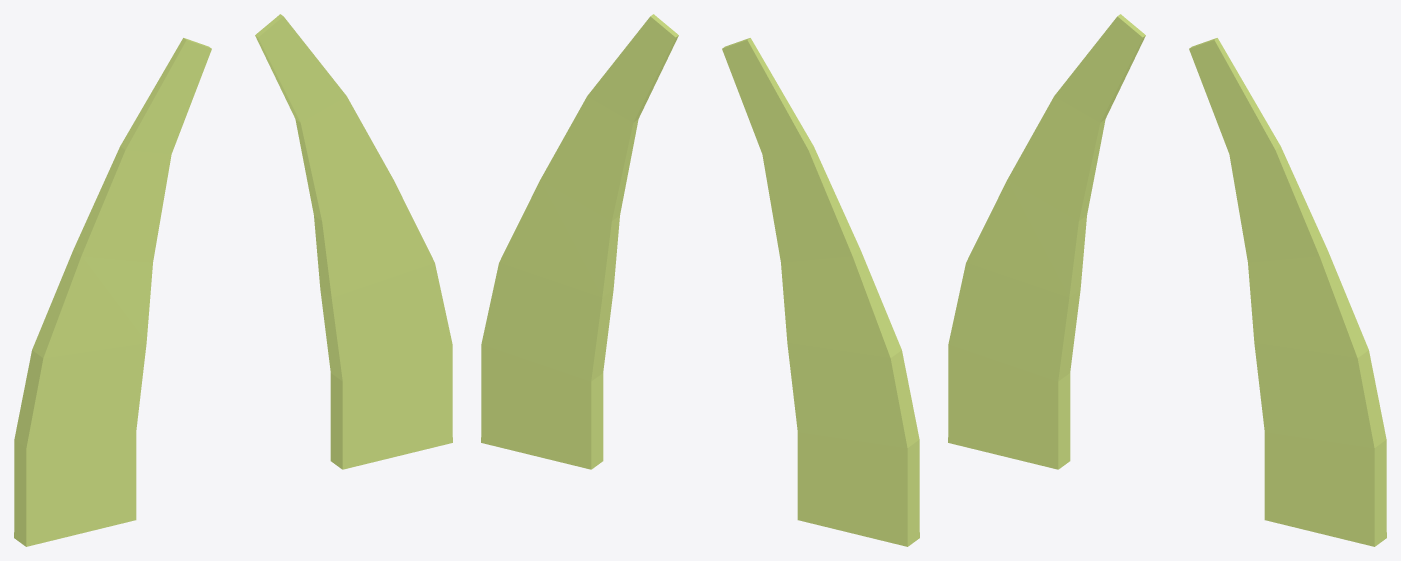
Rendered from Grass1.glb.
3 renders of one model, left to right at view 1: azimuth 30°, elevation 25°; view 2: azimuth 150°, elevation 25°; view 3: azimuth 330°, elevation 25°, orthographic.
Visible parts, largest first — view 1: Grass1; view 2: Grass1; view 3: Grass1.
Boxes of the visible parts, x1,y1,x2,y2 form: Grass1: (14, 14, 452, 546); Grass1: (481, 14, 919, 546); Grass1: (948, 14, 1386, 546).
Size of the model in its own units: 0.2041 by 0.2119 by 0.00998.
